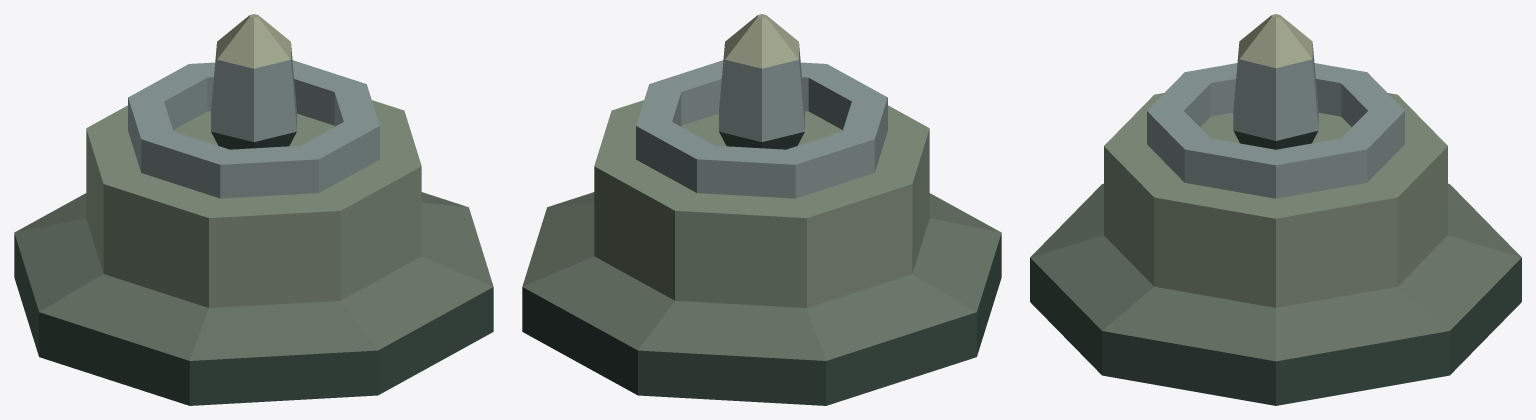
File: seal-plinth.glb
3 renders of one model, left to right at view 1: azimuth 30°, elevation 25°; view 2: azimuth 150°, elevation 25°; view 3: azimuth 270°, elevation 25°, orthographic.
Parts seen in each view (by area): view 1: seal-plinth__body; view 2: seal-plinth__body; view 3: seal-plinth__body.
Boxes of the visible parts, <box> form: seal-plinth__body: <box>14,14,493,405</box>; seal-plinth__body: <box>522,14,1001,405</box>; seal-plinth__body: <box>1030,14,1521,405</box>.
Size of the model in its own units: 1.2 by 0.77 by 1.2.
